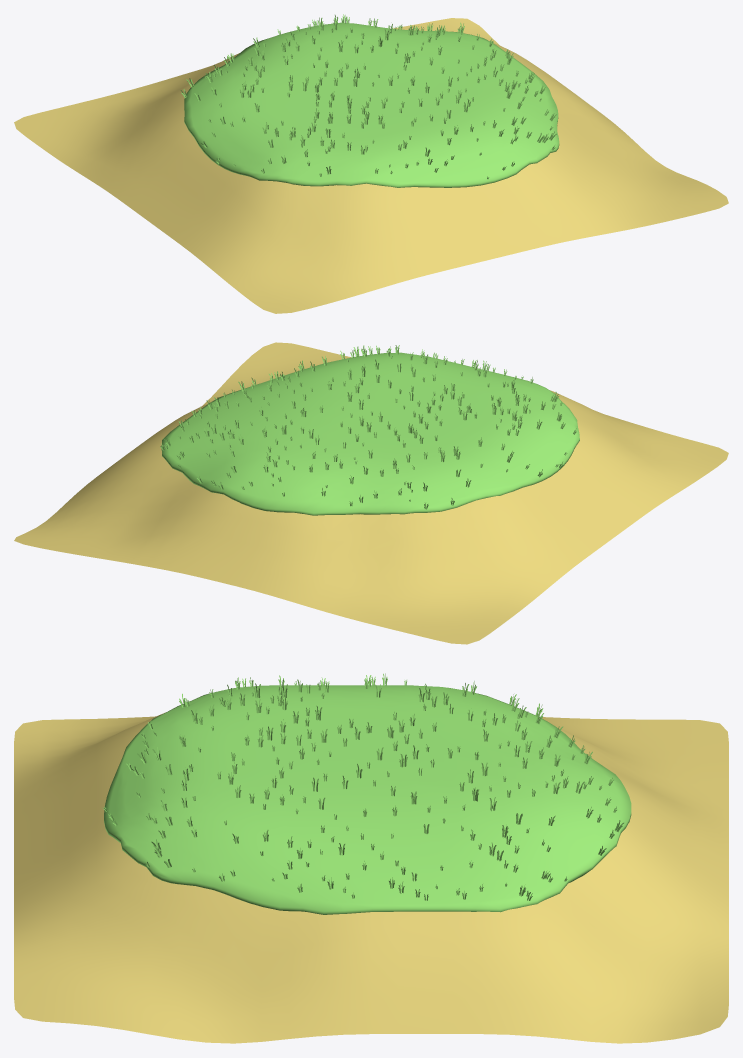
The model's file is LandGRASS.fbx.
3 views of the same model, one above another, from view 1: azimuth 30°, elevation 25°; view 2: azimuth 150°, elevation 25°; view 3: azimuth 270°, elevation 25° (orthographic). The views are drawn at different scales.
Visible parts, largest first — view 1: Plane, Plane.002; view 2: Plane, Plane.002; view 3: Plane, Plane.002.
Part boxes in pixels (box(x1,y1,x2,y2)): Plane: box(14, 18, 728, 313); Plane.002: box(184, 22, 559, 187); Plane: box(14, 342, 728, 644); Plane.002: box(161, 352, 579, 515); Plane: box(14, 712, 728, 1043); Plane.002: box(104, 685, 631, 914).
Bounding box in the file's own units: 174 × 36.88 × 174.
